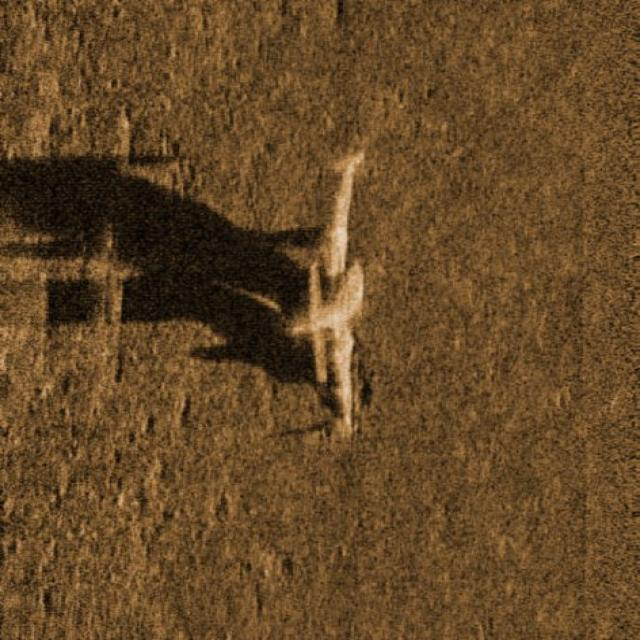plane: (266, 144, 404, 450)
